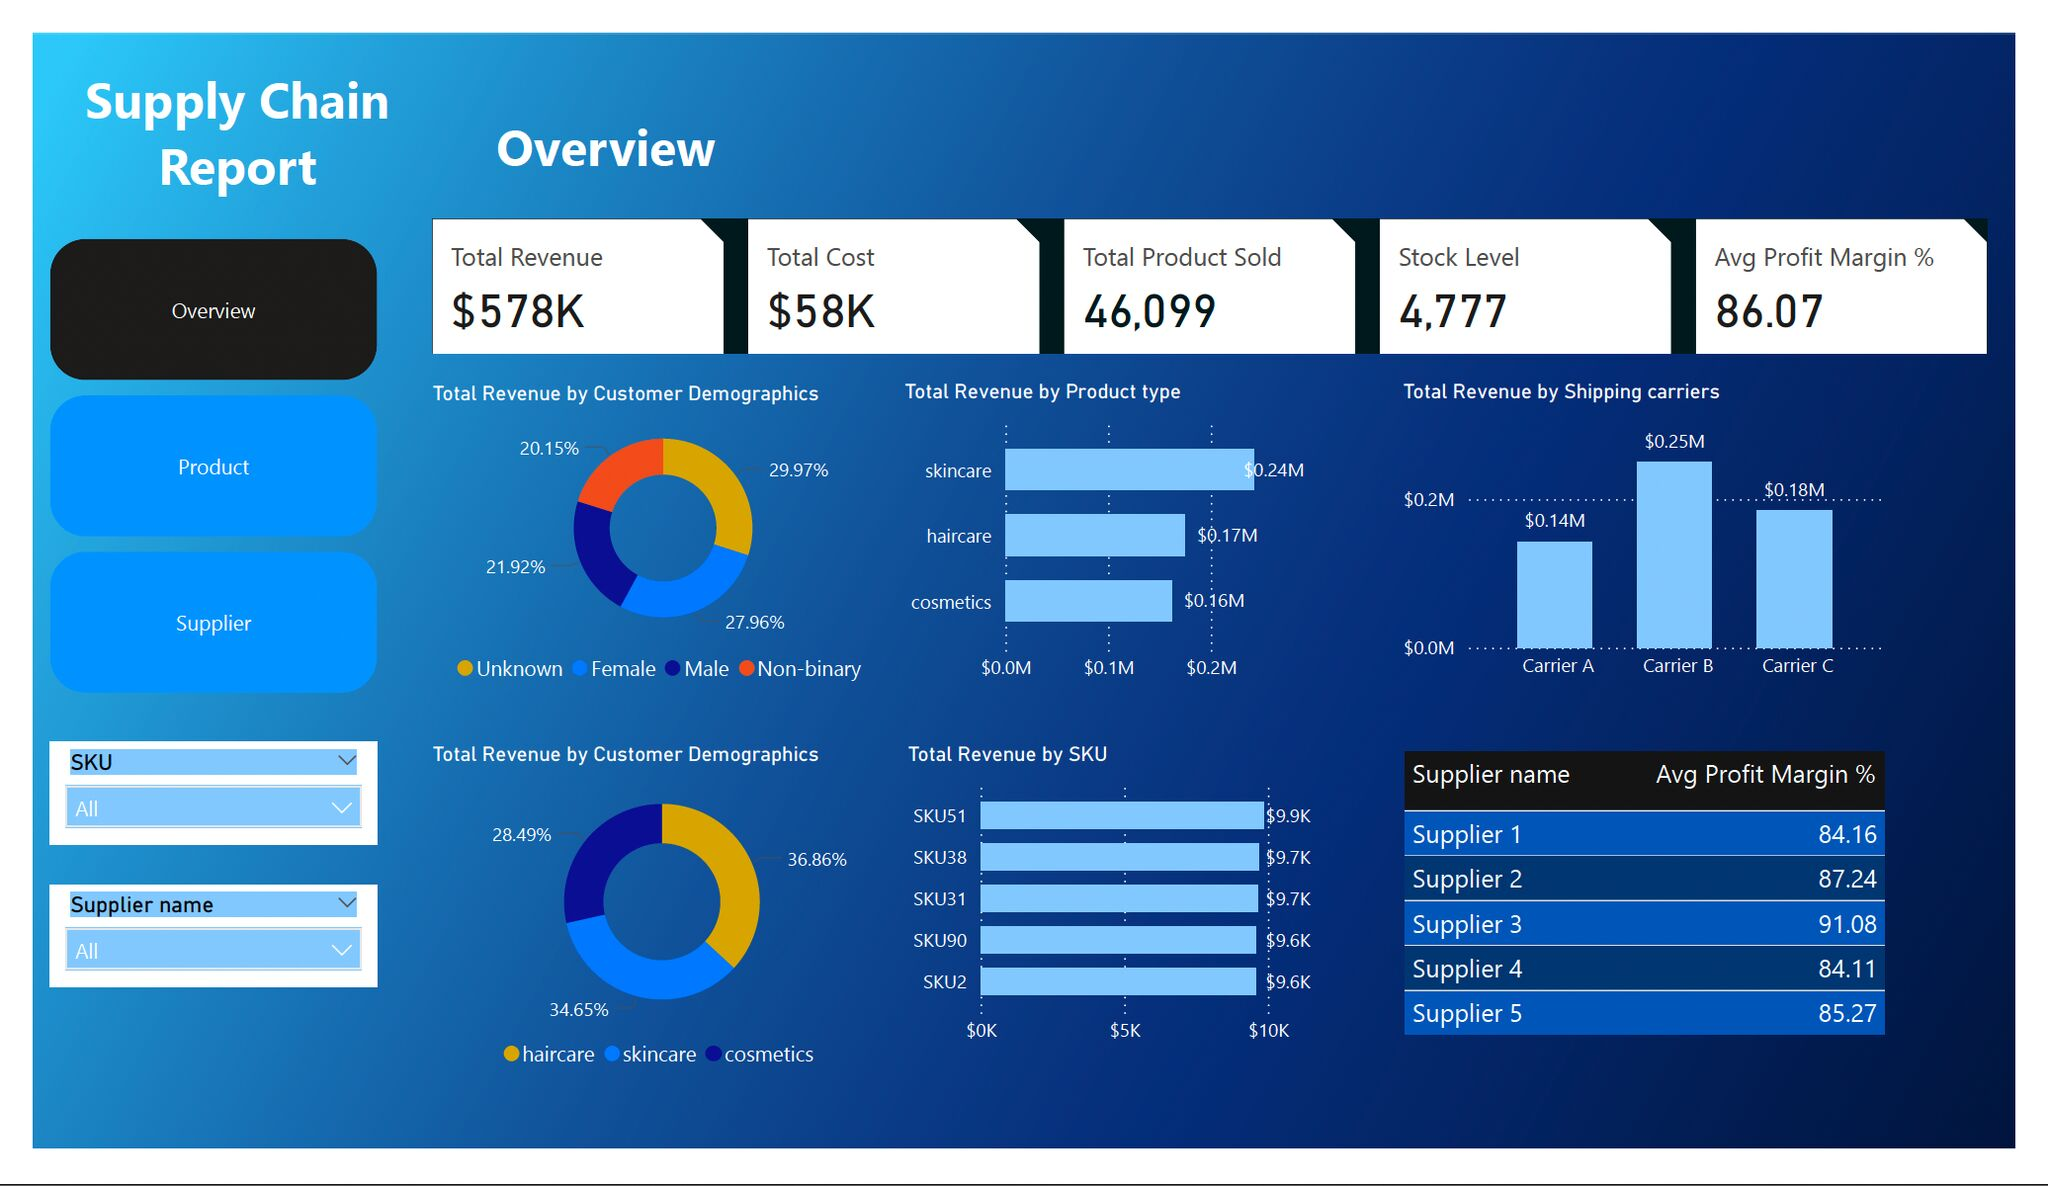

What the dashboard file says about the page in this screenshot:
{"tool":"powerbi","page":{"name":"Overview","canvas":[1280,720],"ordinal":0},"visuals":[{"type":"cardVisual","fields":{"Data":["Measures (2).Total Revenue","Measures (2).Total Cost","Measures (2).Total Product Sold","Measures (2).Stock Level","Measures (2).Avg Profit Margin %"]},"box":[252.6,114.8,1016.7,98],"z":0},{"type":"donutChart","title":"Total Revenue by Customer Demographics","fields":{"Y":["Measures (2).Total Revenue"],"Category":["supply_chain_data.Customer demographics"]},"box":[252.6,225.1,307.8,203.6],"z":1000},{"type":"donutChart","title":"Total Revenue by Customer Demographics","fields":{"Y":["Measures (2).Avg Defect rate %"],"Category":["supply_chain_data.Product type"]},"box":[252.6,457.8,306.2,220.5],"z":2000},{"type":"clusteredBarChart","fields":{"Y":["Measures (2).Total Revenue"],"Category":["supply_chain_data.Product type"]},"box":[558.4,224.4,284.3,204],"z":3000},{"type":"clusteredBarChart","fields":{"Category":["supply_chain_data.SKU"],"Y":["Measures (2).Total Revenue"]},"box":[559.7,457.7,284.3,204],"z":4000},{"type":"columnChart","fields":{"Y":["Measures (2).Total Revenue"],"Category":["supply_chain_data.Shipping carriers"]},"box":[880.4,223.5,321.5,203.6],"z":5000},{"type":"tableEx","fields":{"Values":["supply_chain_data.Supplier name","Measures (2).Avg Profit Margin %"]},"box":[880.4,459.3,321.5,203.6],"z":6000},{"type":"textbox","box":[294,45.9,241.9,53.6],"z":7000},{"type":"pageNavigator","box":[10.7,133.2,211.3,294],"z":8000},{"type":"slicer","fields":{"Values":["supply_chain_data.SKU"]},"box":[10.7,457.8,211.3,65.8],"z":9000},{"type":"slicer","fields":{"Values":["supply_chain_data.Supplier name"]},"box":[10.7,549.7,211.3,65.8],"z":10000},{"type":"textbox","box":[10.7,15.3,241.9,99.5],"z":11000}]}

Visuals, with their boxes in screenshot pixels (x1, y1, x2, y2), scaled from the page's 1280x720 canvas onto the 2048x1186 screenshot:
cardVisual - Measures (2).Total Revenue x Measures (2).Total Cost: region(404, 189, 2031, 351)
"Total Revenue by Customer Demographics" donutChart: region(404, 371, 897, 706)
"Total Revenue by Customer Demographics" donutChart: region(404, 754, 894, 1117)
clusteredBarChart - Measures (2).Total Revenue x supply_chain_data.Product type: region(893, 370, 1348, 706)
clusteredBarChart - supply_chain_data.SKU x Measures (2).Total Revenue: region(896, 754, 1350, 1090)
columnChart - Measures (2).Total Revenue x supply_chain_data.Shipping carriers: region(1409, 368, 1923, 704)
tableEx - supply_chain_data.Supplier name x Measures (2).Avg Profit Margin %: region(1409, 757, 1923, 1092)
textbox: region(470, 76, 857, 164)
pageNavigator: region(17, 219, 355, 704)
slicer - supply_chain_data.SKU: region(17, 754, 355, 862)
slicer - supply_chain_data.Supplier name: region(17, 905, 355, 1014)
textbox: region(17, 25, 404, 189)
